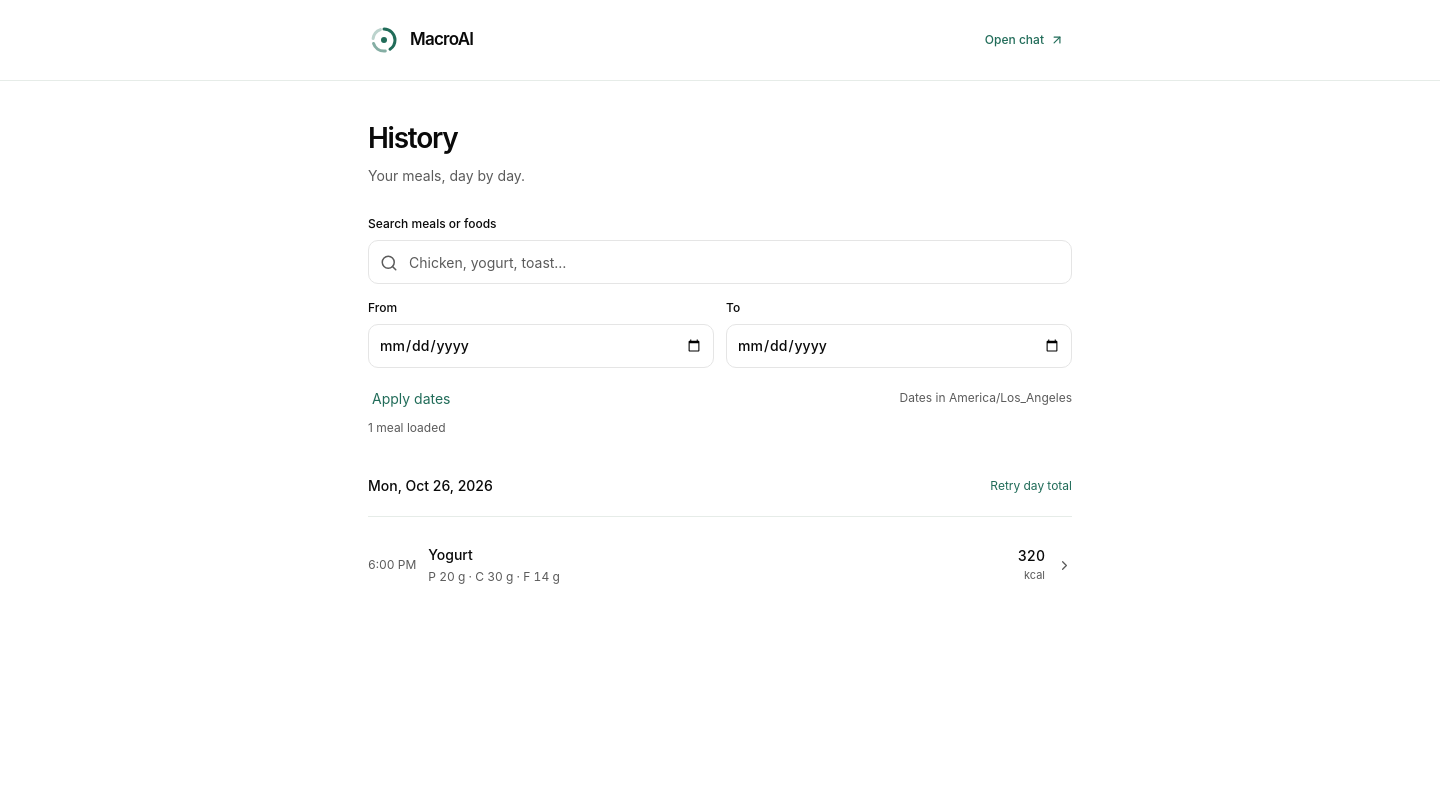
Scenario: retries a failed day total independently
Step 1. Click the button "Retry day total" → [1031, 486], box left=990, top=464, right=1072, bottom=508
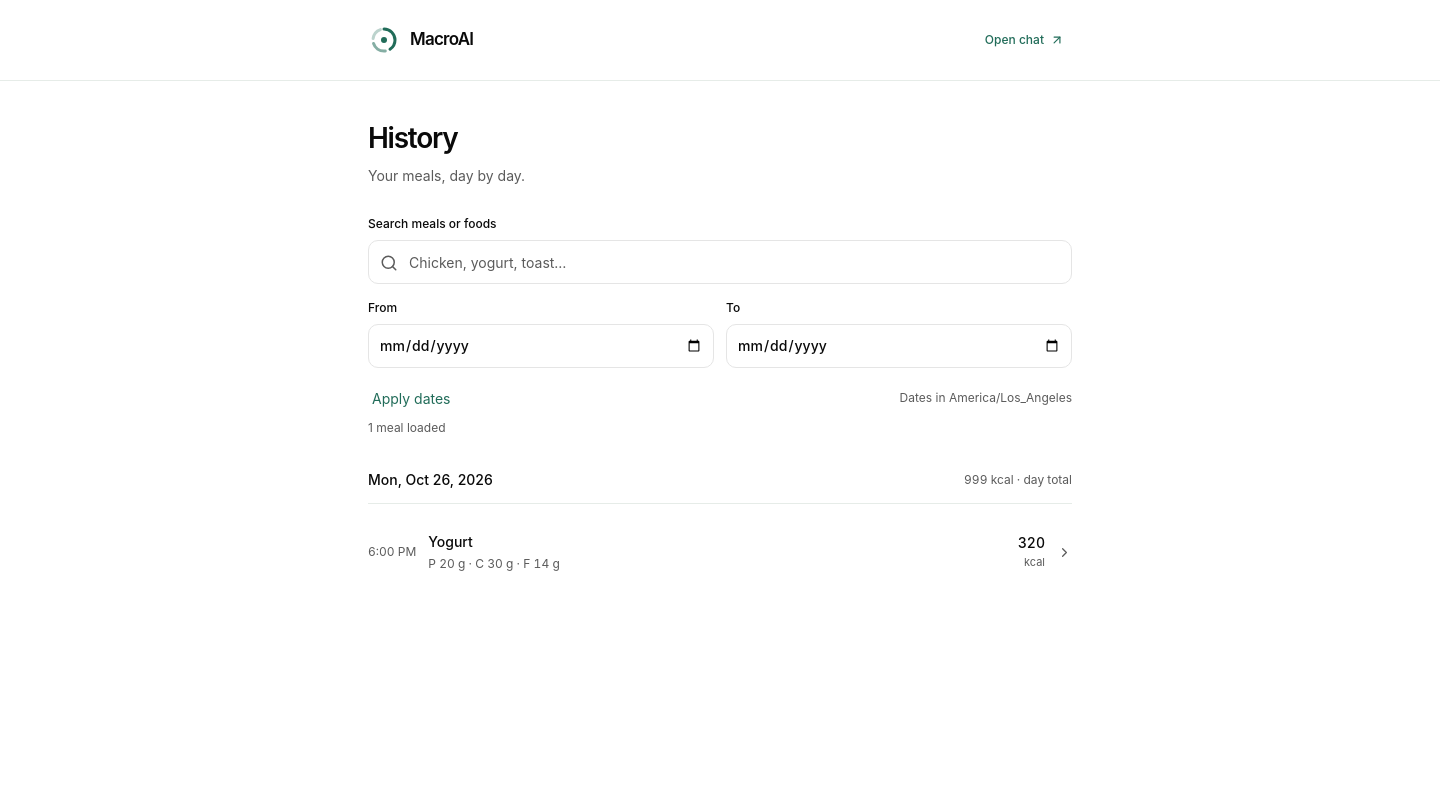
Check: the text "999 kcal · day total" is shown, box left=964, top=472, right=1072, bottom=488
